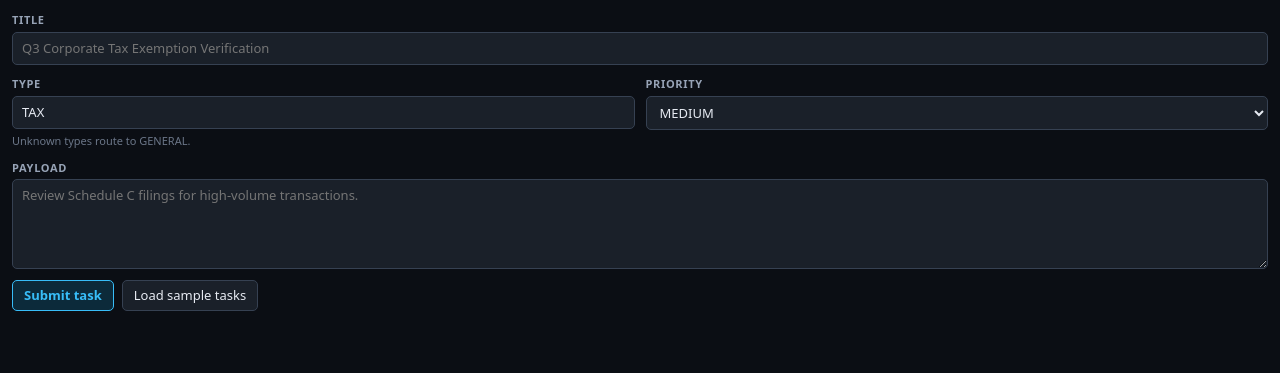
Scenario: TaskForm - per-field API errors › handles a non-ApiError rejection without leaking a stack trace
Type "Quarterly review" into the field labelled "Title" at (640, 48), box [12,32,1268,65]
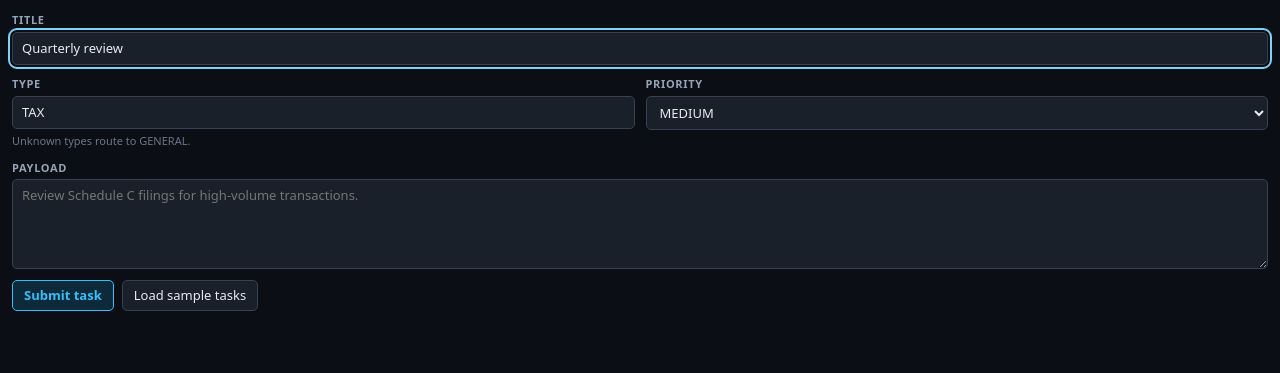
Type "Check the ledger." into the text box labelled "Payload" at (640, 224), box [12,179,1268,269]
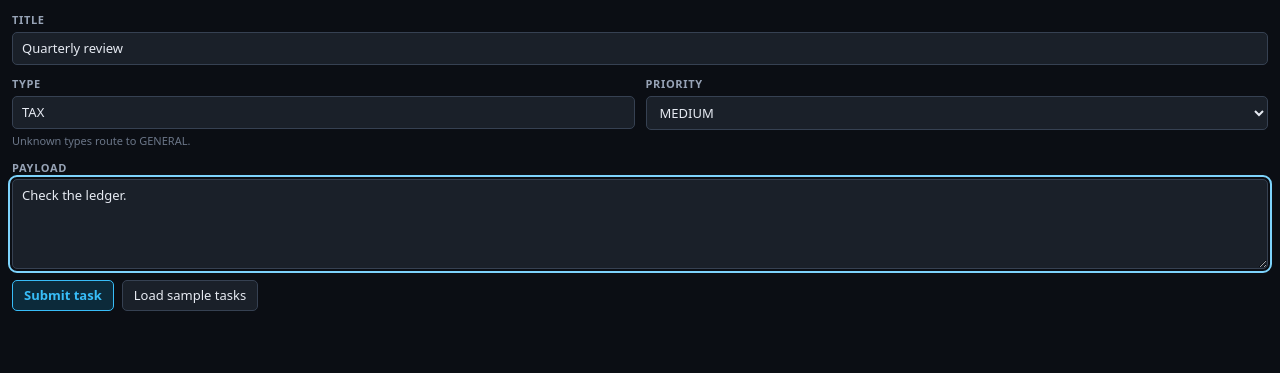
Click the button "Submit task" at (63, 295), box [12,280,114,311]
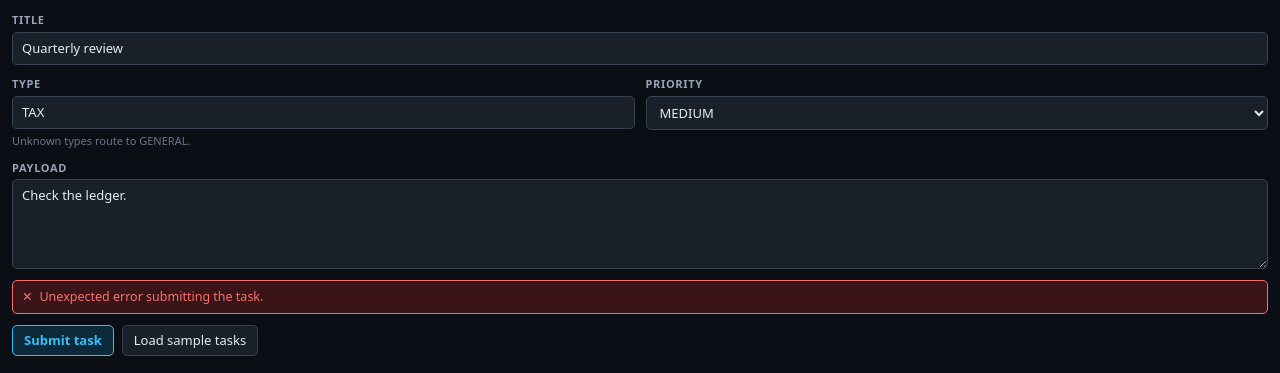
Now the message shows "Unexpected error", box [40,288,263,305]
